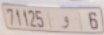1: (14, 8, 22, 26), (22, 9, 29, 27)
2: (28, 10, 37, 27)
5: (35, 11, 44, 28)
6: (88, 12, 99, 30)
7: (6, 8, 14, 25)
waw: (61, 15, 70, 29)
